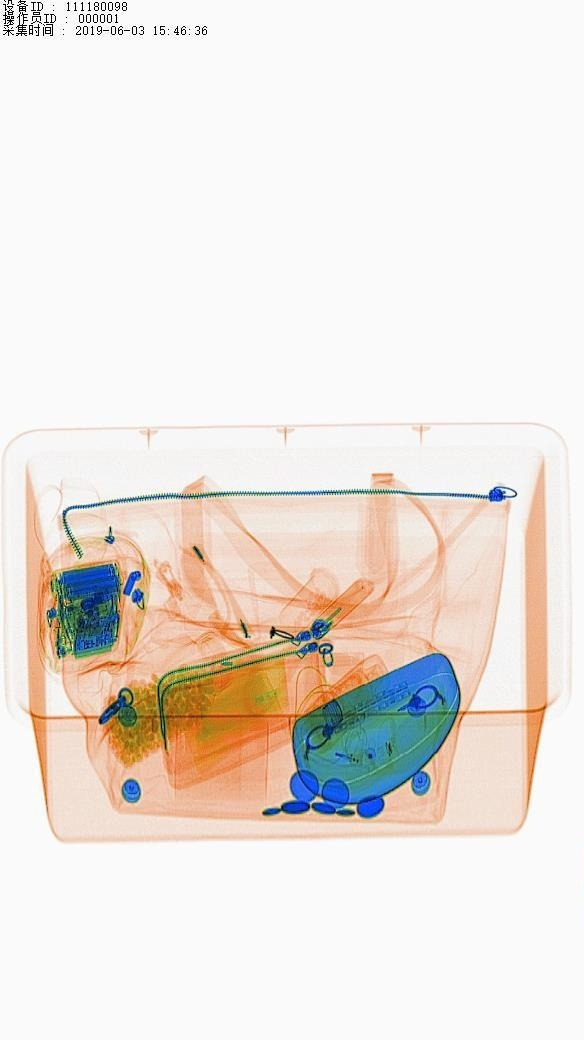NonmetallicFire: (305, 572, 398, 653)
